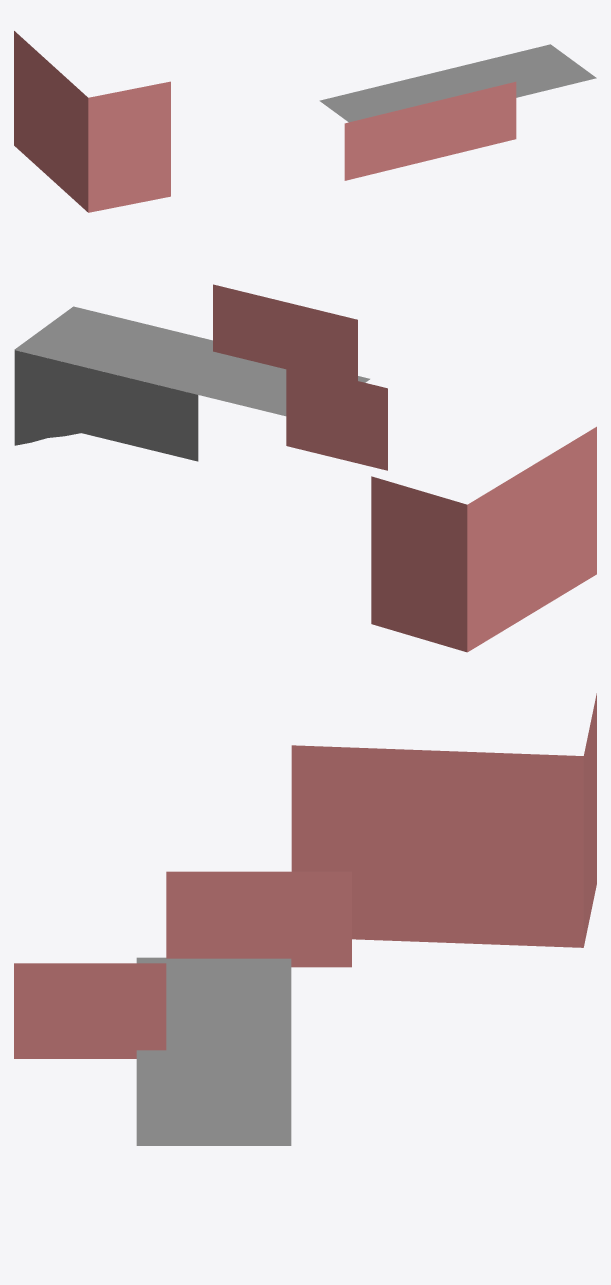
File: S_Envi_Fyz_Building_65l.gltf
3 views of the same model, one above another, from view 1: azimuth 30°, elevation 25°; view 2: azimuth 150°, elevation 25°; view 3: azimuth 270°, elevation 25° (orthographic). The views are drawn at different scales.
Visible parts, largest first — view 1: S_Envi_Fyz_Building_65l; view 2: S_Envi_Fyz_Building_65l; view 3: S_Envi_Fyz_Building_65l.
Boxes of the visible parts, x1,y1,x2,y2 form: S_Envi_Fyz_Building_65l: [14, 31, 596, 212]; S_Envi_Fyz_Building_65l: [14, 284, 596, 652]; S_Envi_Fyz_Building_65l: [14, 693, 596, 1145].
Size of the model in its own units: 46.76 by 13.06 by 30.93.
